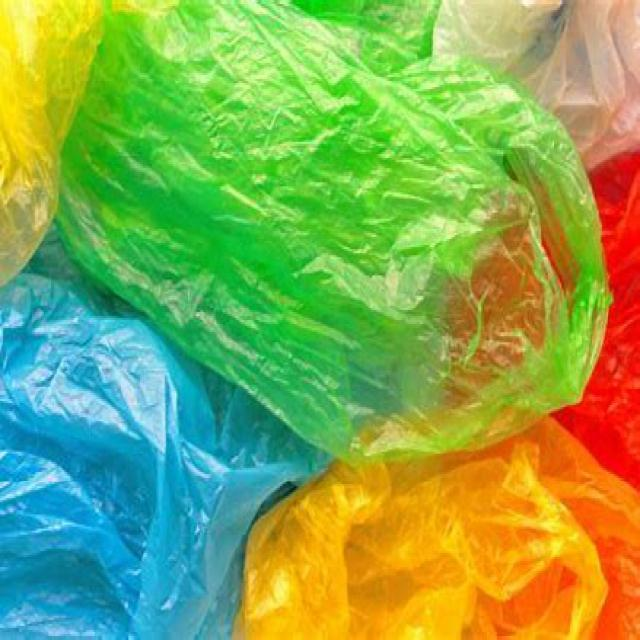waste: (0, 279, 252, 638), (240, 446, 636, 639), (0, 0, 88, 272)
